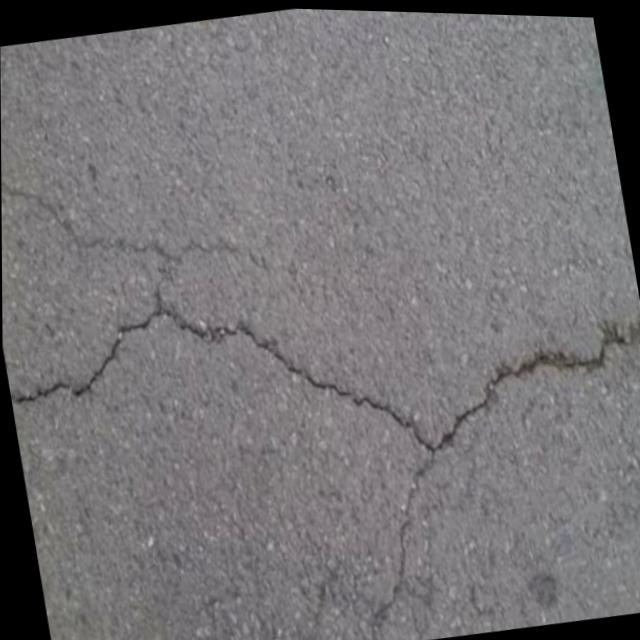Crack: (1, 217, 640, 528)
